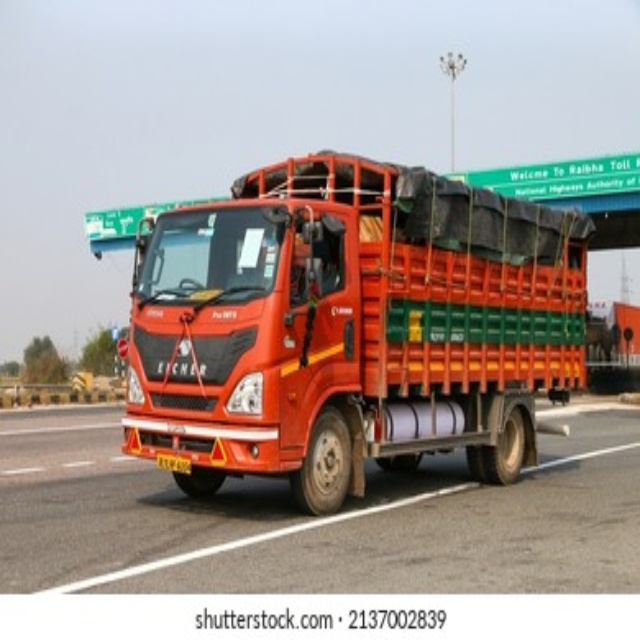Truck: (121, 149, 586, 519)
